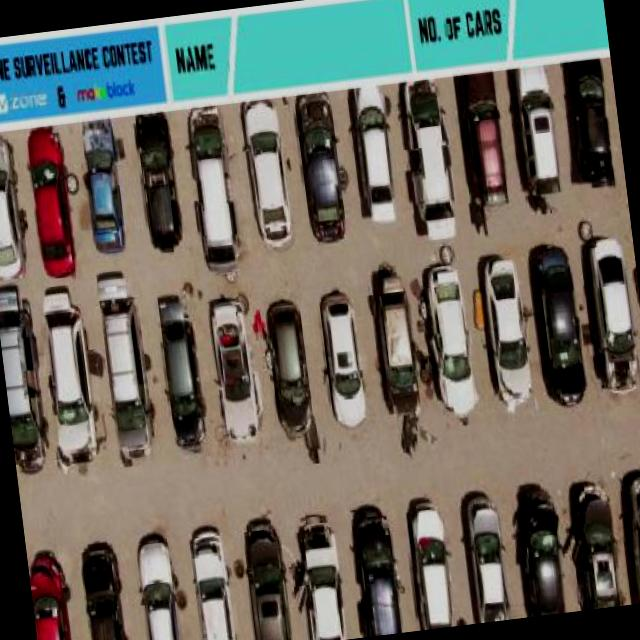car: (179, 104, 247, 274), (526, 238, 592, 402), (150, 284, 214, 453), (96, 294, 162, 456), (34, 302, 101, 461), (288, 86, 354, 242), (236, 95, 300, 248), (398, 74, 462, 225), (424, 262, 484, 422), (480, 250, 538, 404), (22, 120, 78, 274), (583, 233, 640, 384), (257, 299, 317, 439), (368, 266, 422, 420), (0, 295, 48, 466), (206, 291, 258, 448), (454, 68, 514, 201), (556, 58, 618, 186), (237, 512, 296, 640), (132, 114, 186, 252), (350, 516, 408, 636), (567, 480, 623, 604), (316, 292, 367, 425), (512, 494, 566, 617), (458, 494, 510, 620), (404, 499, 454, 630), (346, 85, 396, 212), (297, 514, 345, 640), (79, 121, 125, 249), (25, 541, 84, 640), (518, 82, 568, 196), (76, 537, 130, 640), (188, 528, 236, 640), (132, 531, 181, 640), (0, 131, 32, 279), (626, 470, 640, 602)
